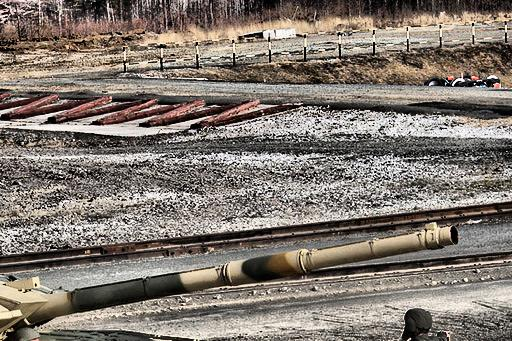tanks: (1, 225, 457, 341)
